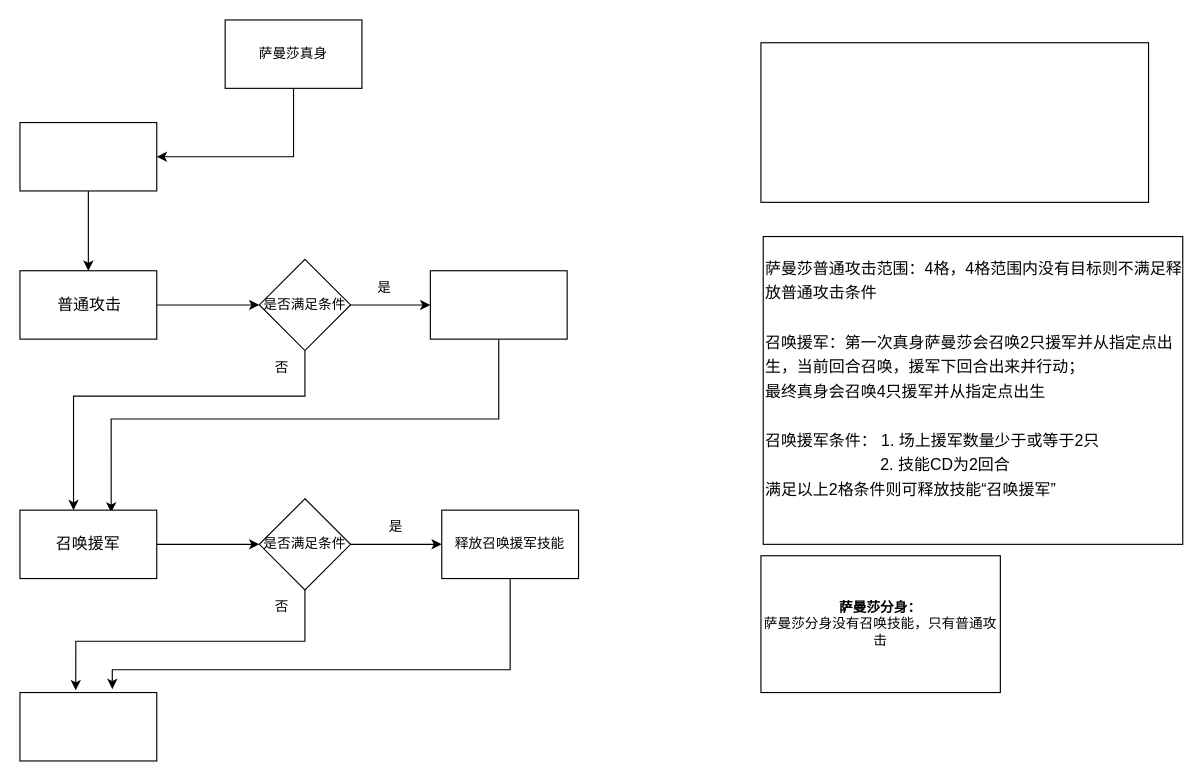
This 1203x781 diagram has some shape labels left out. The box of each missing label's shape, as (x1, y1, x2, y2) in pixels:
事件 ： 当萨曼莎真身第一次被击杀时，在地图上指定的2个点刷新萨曼莎分身,当萨曼莎2个分身被击败时，最终真身出现在地图的指定位置上 事件是实时触发: (760, 42, 1149, 202)
回合开始: (19, 121, 157, 191)
攻击目标: (429, 270, 567, 339)
结束回合: (19, 691, 157, 761)
